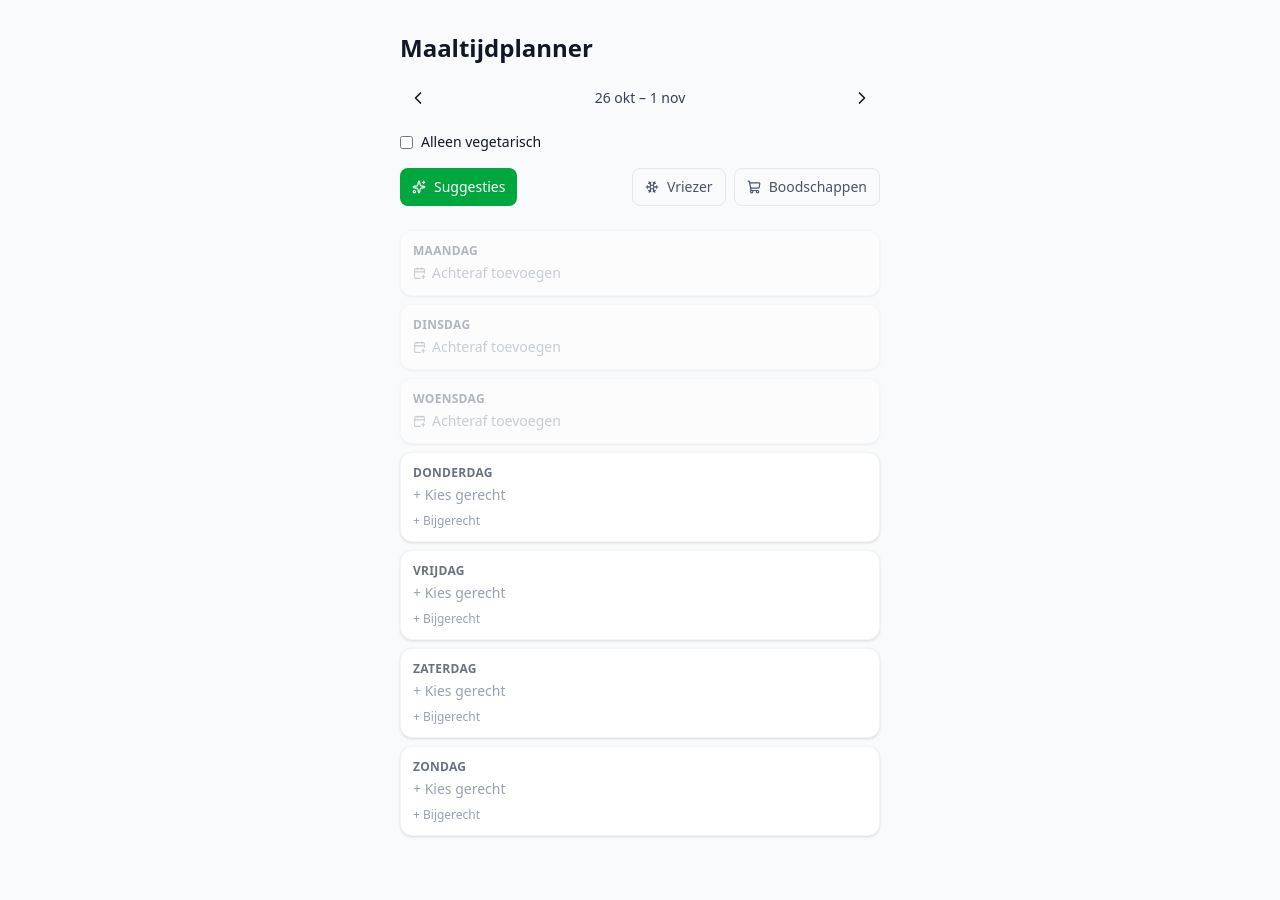
Planner grocery share button › shows confirmation when navigator.share succeeds
This screenshot has width=1280, height=900.
Expected: the heading "Maaltijdplanner" is shown, [400,32,593,64]
Click the button "Boodschappen".
click(807, 187)  # box [734,168,880,206]
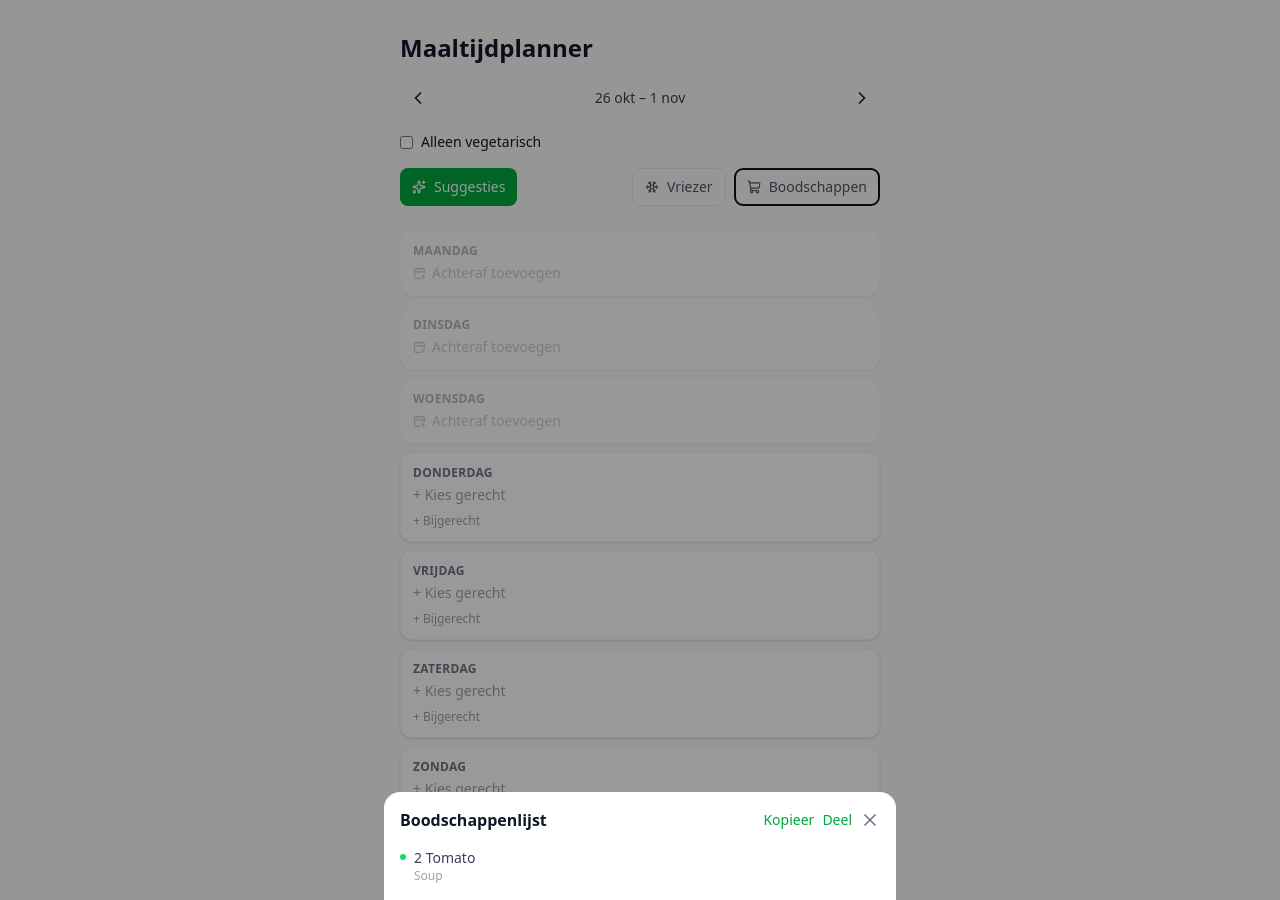
Expected: the heading "Boodschappenlijst" is shown, [400,808,547,832]
Click the button "Deel".
click(837, 820)  # box [822,810,852,830]
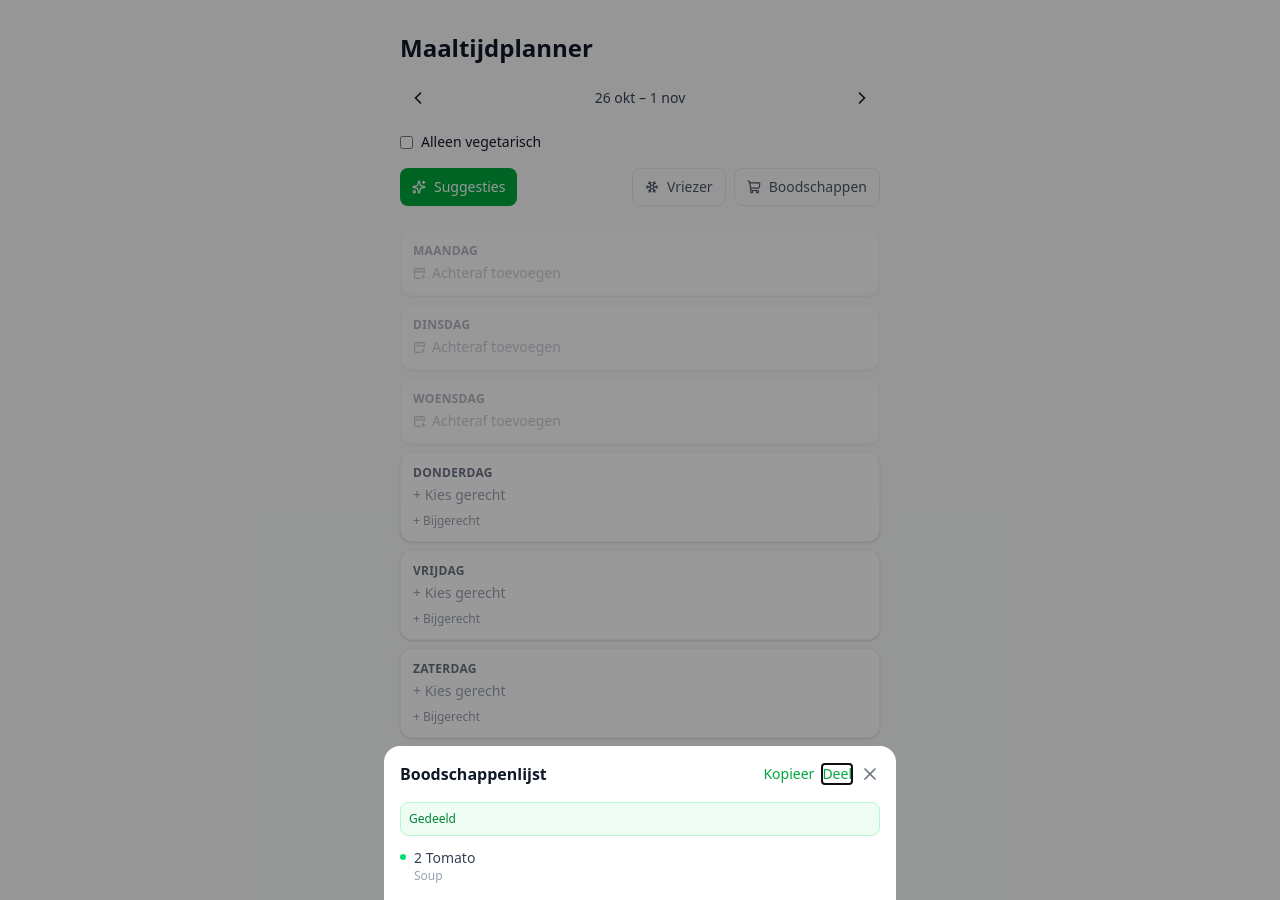
Expected: the text "Gedeeld" is shown, [400,802,880,836]
